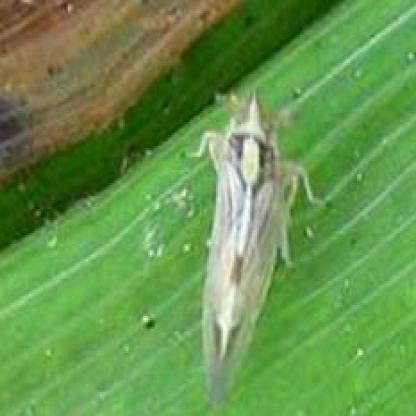brown-planthopper: (196, 86, 294, 404)
